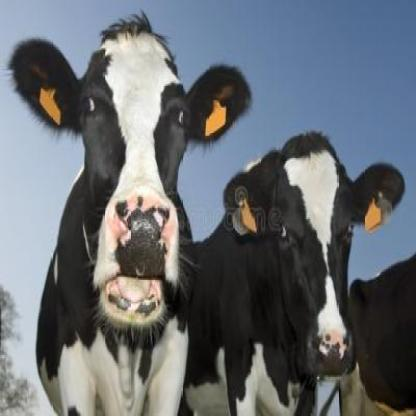lower: (116, 312, 136, 332)
mouth: (92, 190, 180, 338)
upper: (135, 220, 153, 246)
